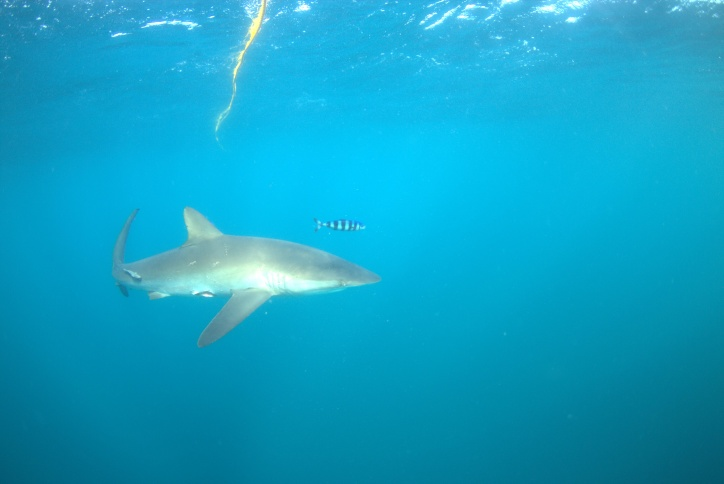Sedoso: (89, 199, 391, 348)
